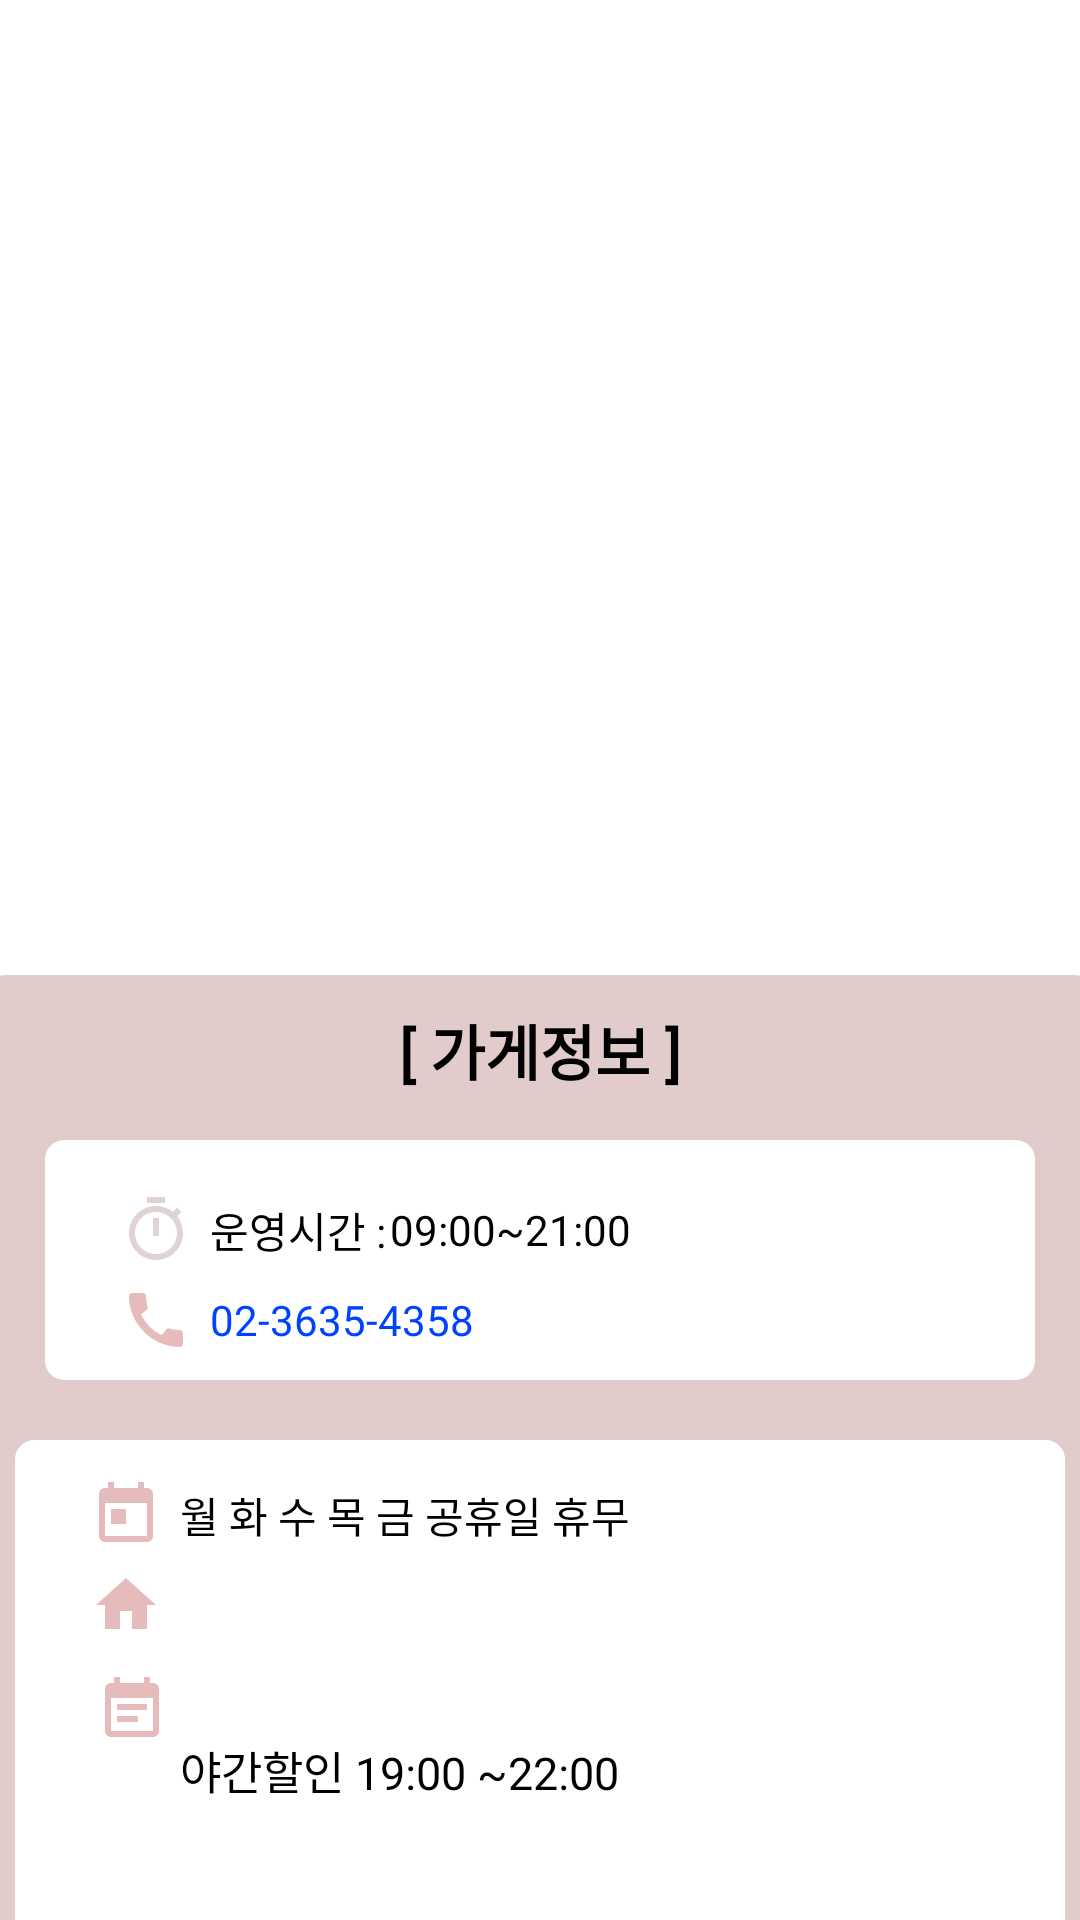

Named icons in this screenshot (1080*1920) and their bounding boxes, (x1, y1, x2, y2):
address: (96, 1578, 156, 1629)
note: (105, 1677, 159, 1737)
openday: (99, 1482, 153, 1542)
phone: (129, 1293, 183, 1347)
time: (129, 1197, 183, 1260)
